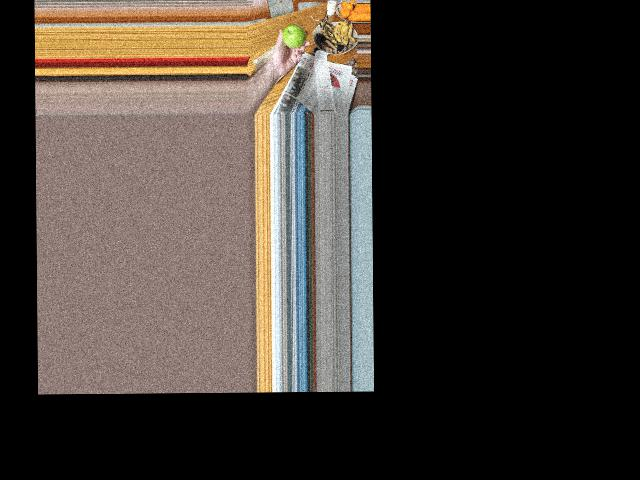apple: (279, 22, 306, 50)
